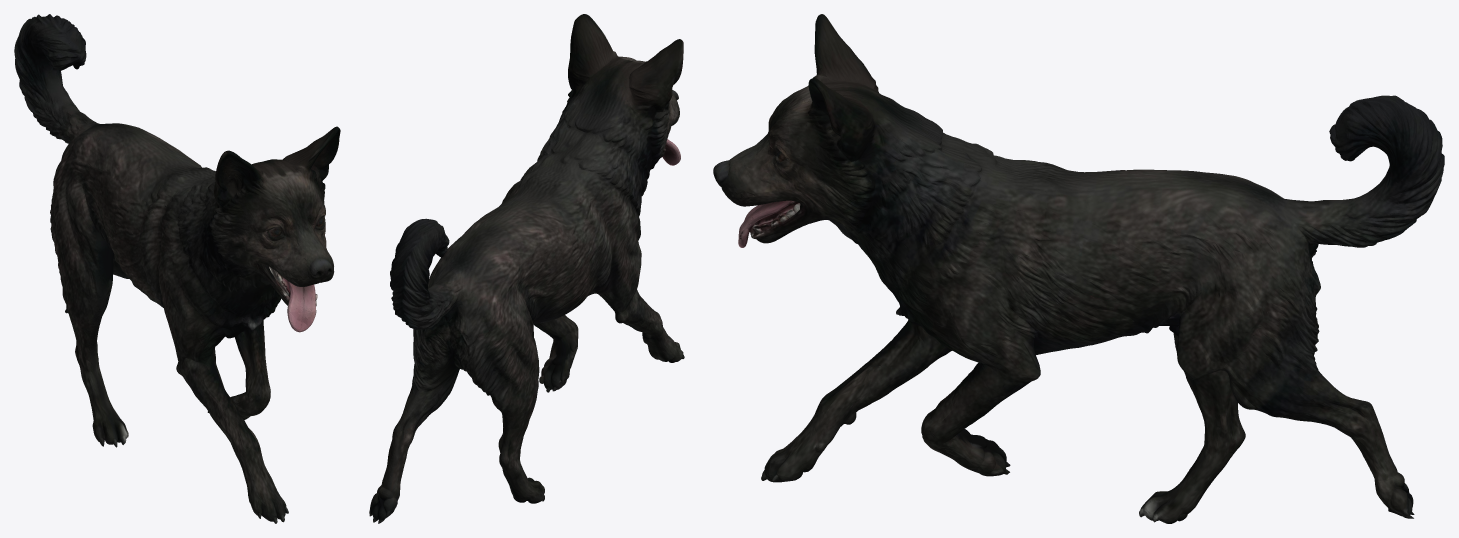
Rendered from runner.glb.
The picture shows the model from 3 angles, left to right: view 1: azimuth 30°, elevation 25°; view 2: azimuth 150°, elevation 25°; view 3: azimuth 270°, elevation 25°; orthographic projection. The views are drawn at different scales.
Parts seen in each view (by area): view 1: world; view 2: world; view 3: world.
Part boxes in pixels (bbox=[...]): world: bbox=[14, 14, 340, 523]; world: bbox=[369, 14, 684, 523]; world: bbox=[713, 14, 1444, 523].
Size of the model in its own units: 0.2353 by 0.7425 by 0.9998.
1 material, 1 textured.
